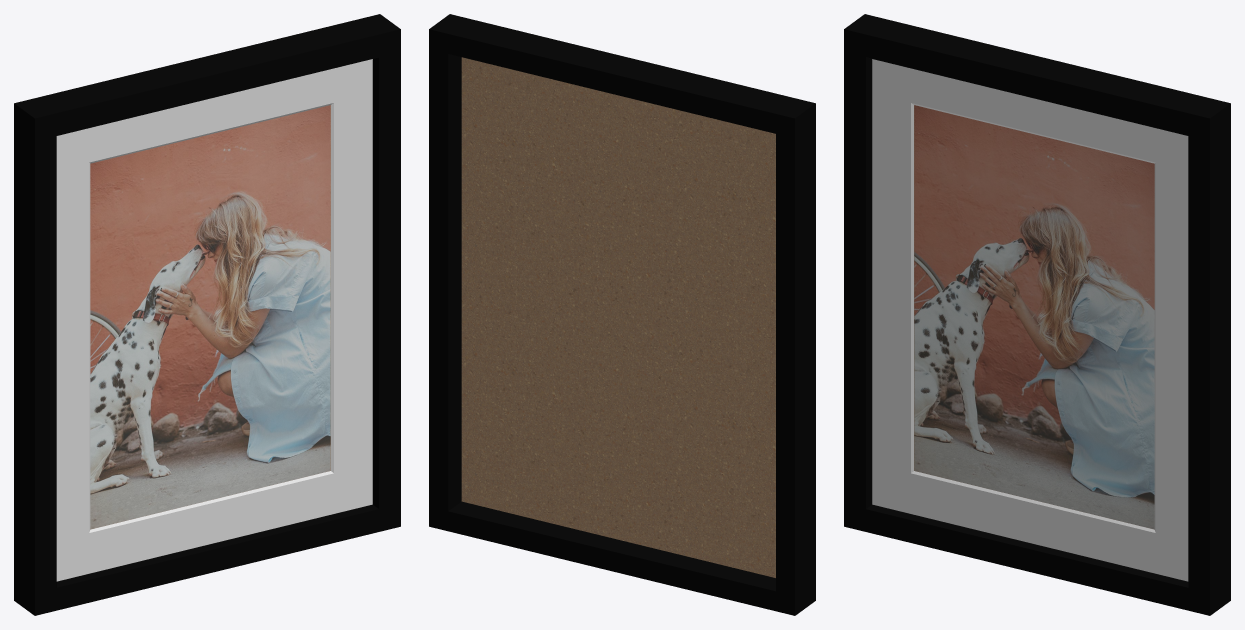
The model's file is ppt-black-frame-portrait-motif.glb.
3 views of the same model, side by side, from view 1: azimuth 30°, elevation 25°; view 2: azimuth 150°, elevation 25°; view 3: azimuth 330°, elevation 25° (orthographic).
Parts seen in each view (by area): view 1: Glass, Motif, Frame, Passepartout; view 2: Back, Frame; view 3: Glass, Motif, Frame, Passepartout.
Boxes of the visible parts, x1,y1,x2,y2 form: Glass: (57,59,372,581); Motif: (90,105,330,529); Frame: (14,14,400,615); Passepartout: (56,59,372,581); Back: (461,57,775,577); Frame: (429,14,815,615); Glass: (872,59,1187,581); Motif: (914,105,1154,529); Frame: (844,14,1230,615); Passepartout: (872,59,1188,581).
Size of the model in its own units: 0.335 by 0.435 by 0.033.
Materials: 5 (2 with a texture image).
